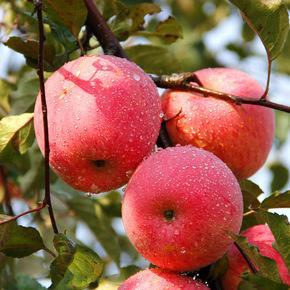apple: (35, 54, 165, 197), (123, 147, 245, 272), (162, 68, 274, 178)
